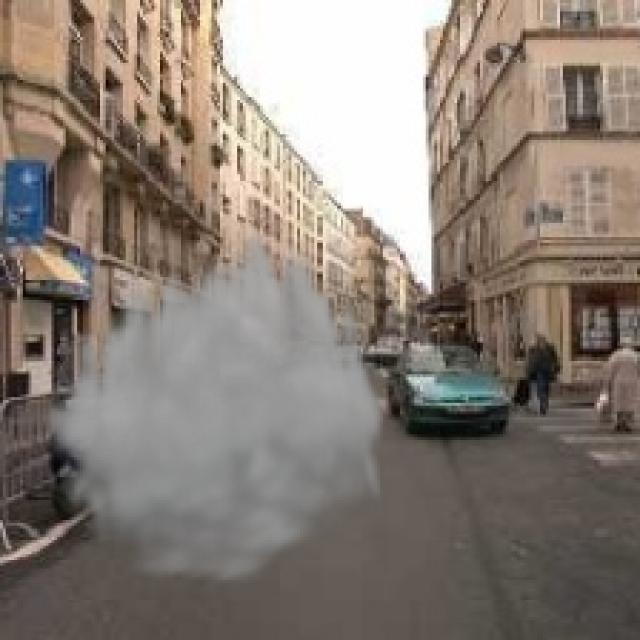smoke: (40, 217, 389, 592)
